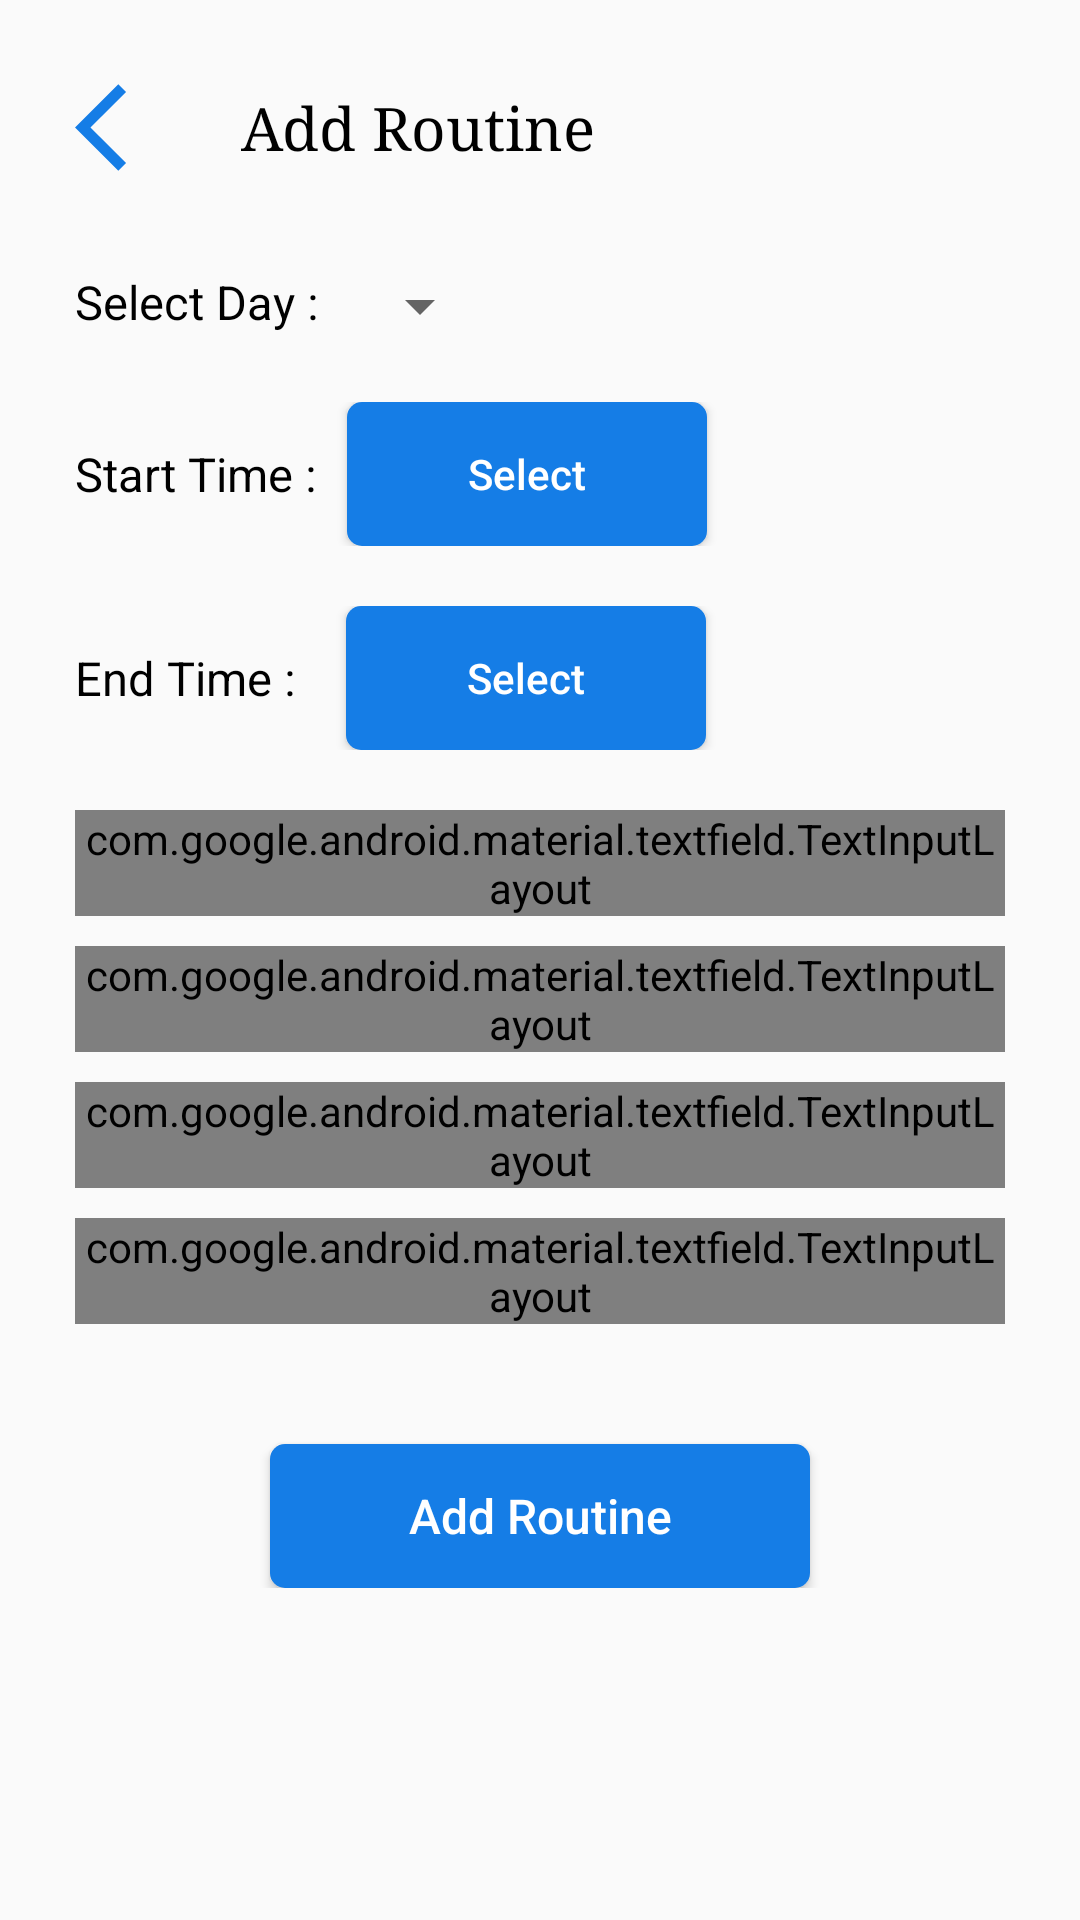

Icons on this 1080px x 1920px Android screen, each with its box as (x1, y1, x2, y2):
back: (75, 84, 126, 171)
